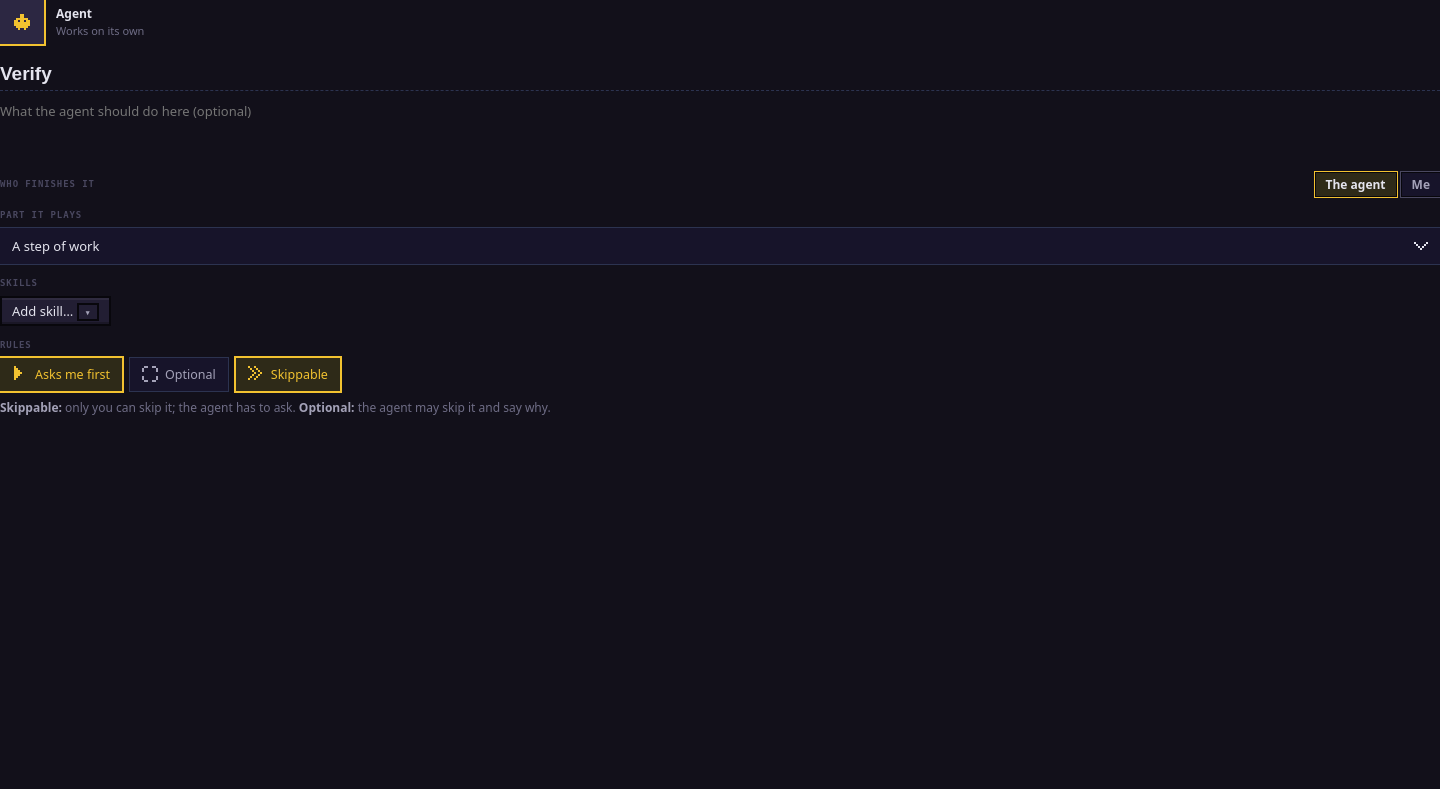
Test case: who finishes a step, in the step inspector › choosing me makes the step the person's and offers the words of its two buttons
Click the button "Me" at (1421, 184), box [1402,173,1439,196]
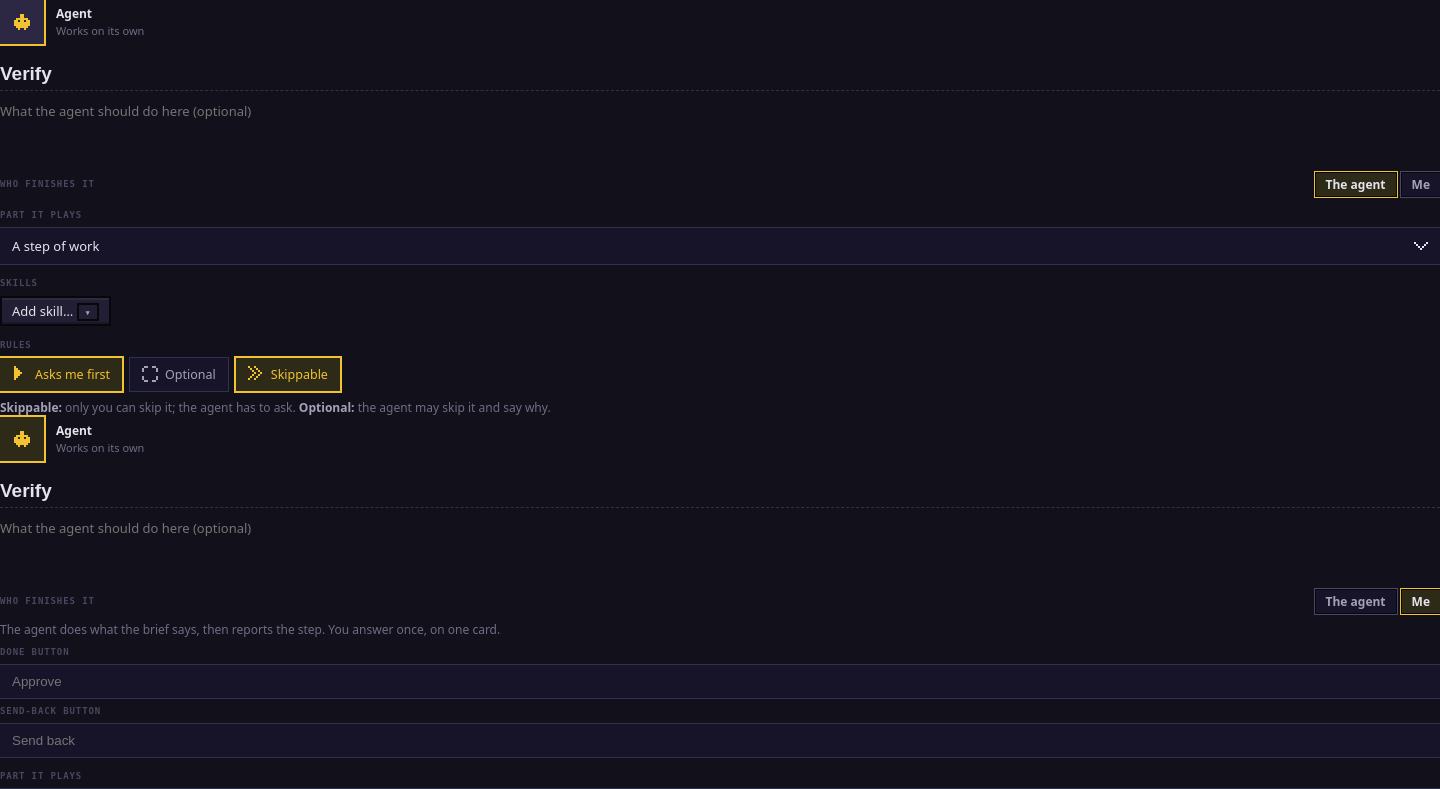
Check: the element named "Settings of step 2" does not show "Asks me first"
Check: the field named "Send-back button of step 2" is shown, box [0,724,1439,756]
